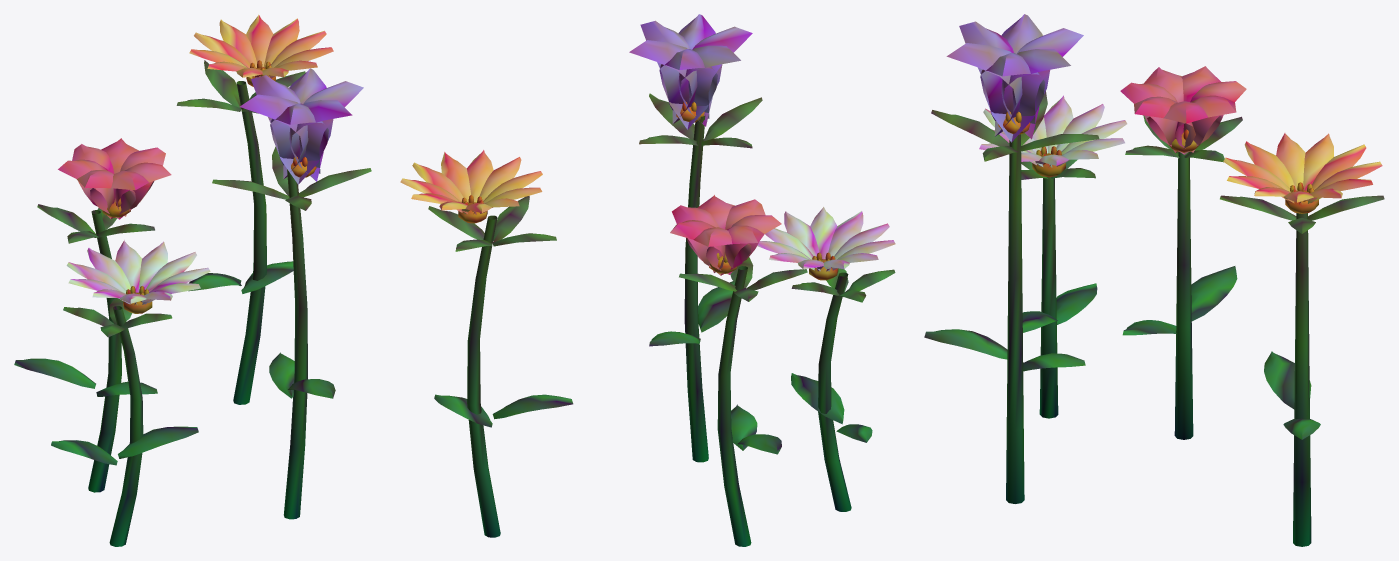
File: flowers.glb
The picture shows the model from 3 angles, left to right: view 1: azimuth 30°, elevation 25°; view 2: azimuth 150°, elevation 25°; view 3: azimuth 270°, elevation 25°; orthographic projection. The views are drawn at different scales.
Parts seen in each view (by area): view 1: Flowers; view 2: Flowers; view 3: Flowers.
Boxes of the visible parts, x1,y1,x2,y2 form: Flowers: [14, 14, 371, 546]; Flowers: [400, 14, 895, 546]; Flowers: [924, 14, 1384, 546].
Size of the model in its own units: 0.5537 by 0.6148 by 0.5457.
